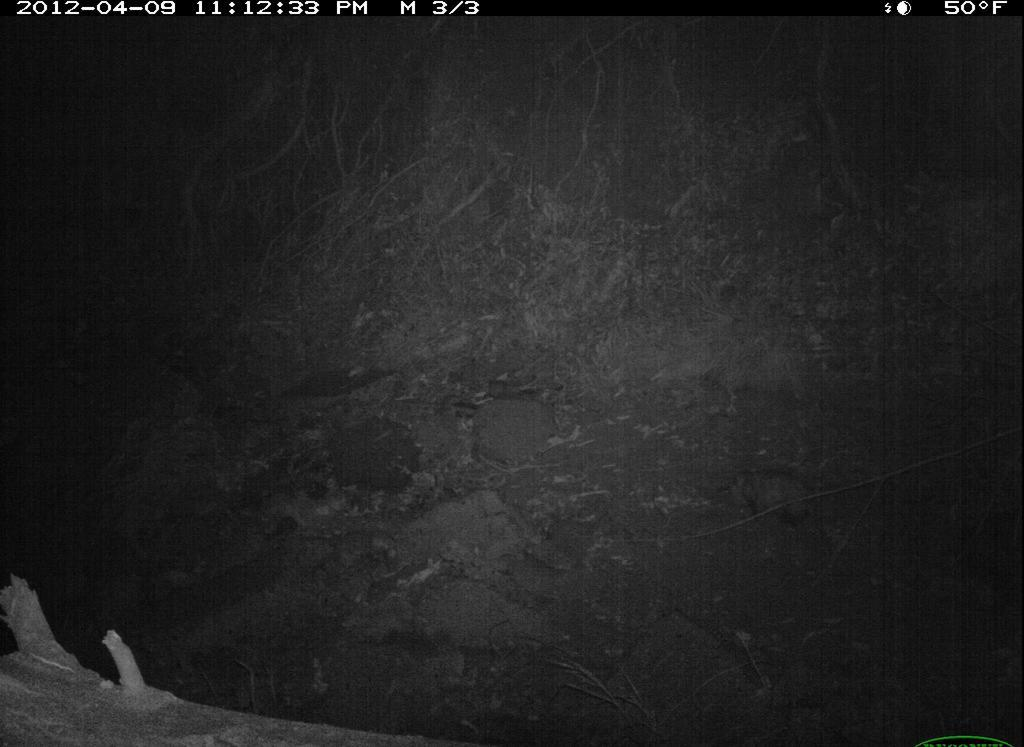opossum: (719, 459, 841, 551)
